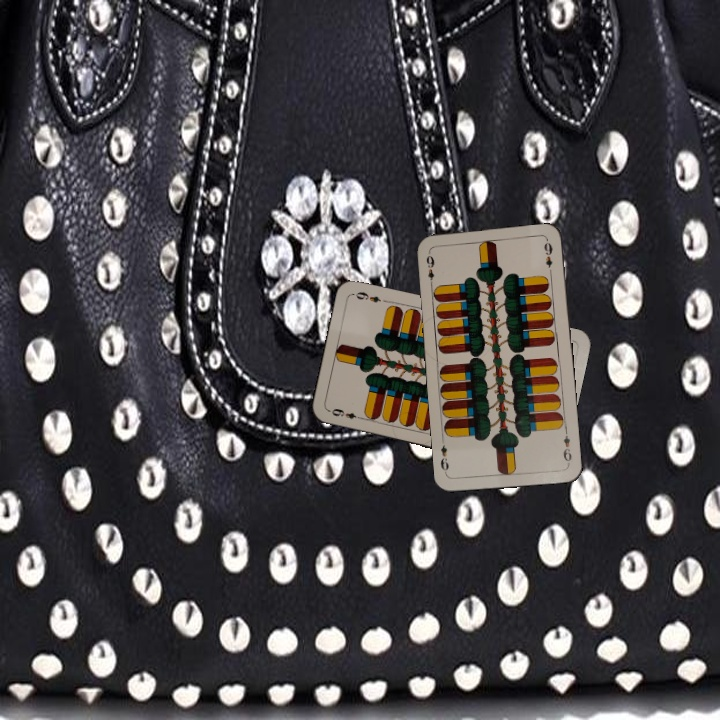E9: (325, 404, 365, 422), (559, 426, 574, 466), (422, 251, 437, 288)
